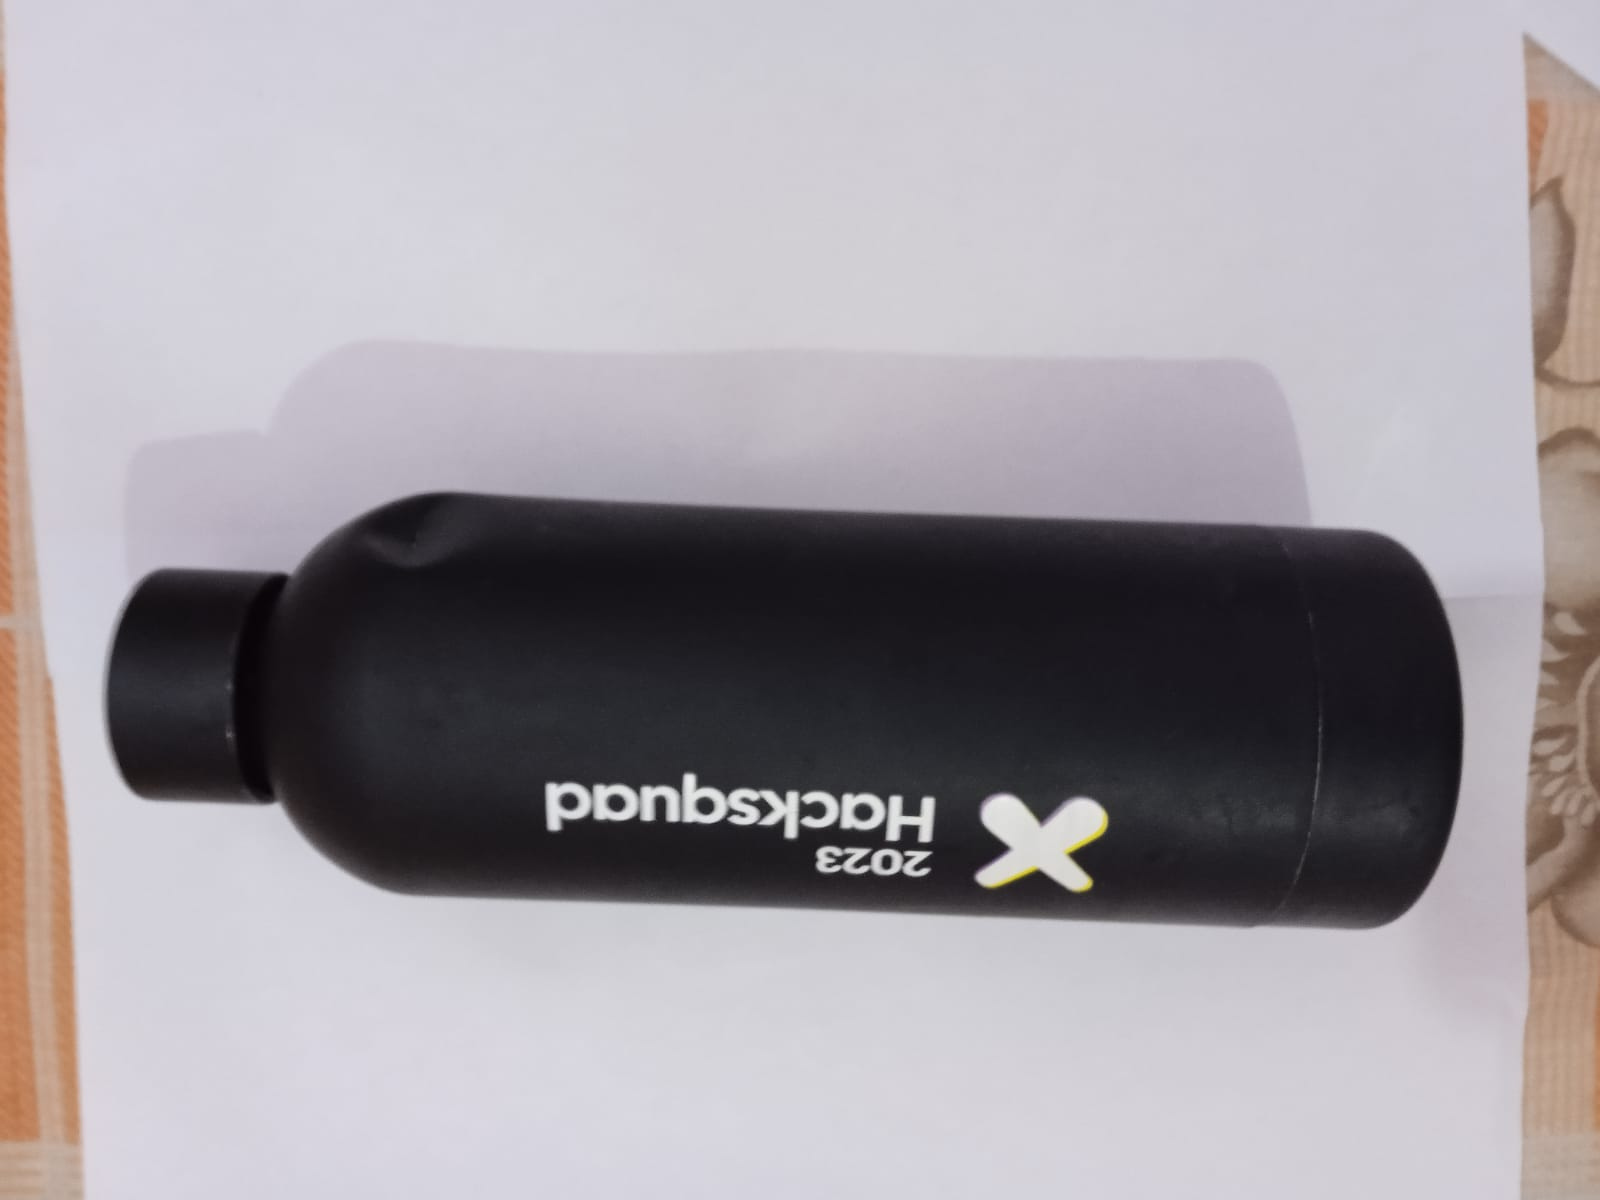bottle: (62, 442, 1504, 964)
